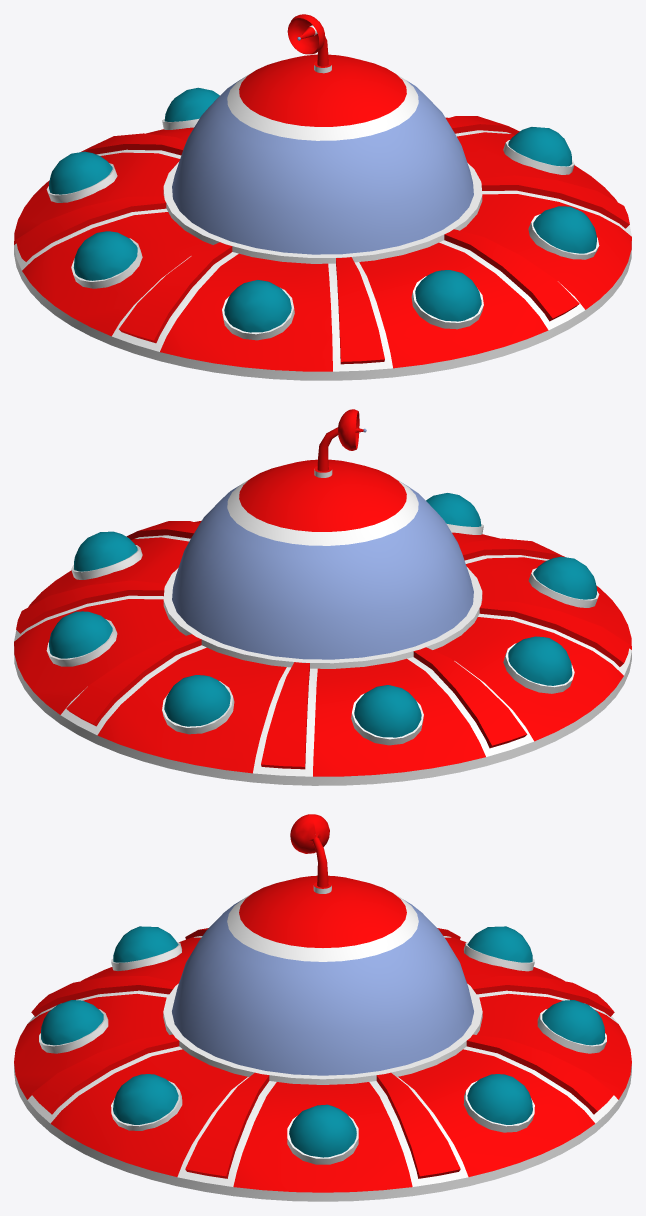
File: retroufo_red_lowpoly.gltf
3 renders of one model, top to bottom at view 1: azimuth 30°, elevation 25°; view 2: azimuth 150°, elevation 25°; view 3: azimuth 270°, elevation 25°, orthographic.
Visible parts, largest first — view 1: Cylinder02.002, meshId12_name, meshId9_name, meshId13_name, meshId11_name, Sphere03.001, Sphere05.001, Sphere01.001, Sphere07.001, Sphere08.001, Sphere02.001, Sphere06.001 (+7 smaller); view 2: Cylinder02.002, meshId12_name, meshId9_name, meshId13_name, meshId11_name, Sphere08.001, Sphere06.001, Sphere01.001, Sphere04.001, Sphere03.001, Sphere02.001, Sphere05.001 (+7 smaller); view 3: Cylinder02.002, meshId12_name, meshId9_name, meshId13_name, meshId11_name, Sphere02.001, Sphere04.001, Sphere07.001, Sphere05.001, Sphere06.001, Sphere03.001, Sphere08.001 (+9 smaller).
Part boxes in pixels (x1,y1,x2,y2): Cylinder02.002: (14,116,631,371); meshId12_name: (172,78,473,254); meshId9_name: (14,130,631,380); meshId13_name: (239,54,406,126); meshId11_name: (163,71,482,263); Sphere03.001: (224,280,291,332); Sphere05.001: (415,270,481,321); Sphere01.001: (73,231,137,280); Sphere07.001: (533,206,596,253); Sphere08.001: (49,151,112,194); Sphere02.001: (508,127,571,166); Sphere06.001: (164,87,219,121); Cylinder02.002: (14,520,631,776); meshId12_name: (172,482,473,659); meshId9_name: (14,535,631,785); meshId13_name: (239,459,406,531); meshId11_name: (163,477,482,668); Sphere08.001: (354,685,421,737); Sphere06.001: (164,675,230,726); Sphere01.001: (508,636,572,685); Sphere04.001: (49,611,112,658); Sphere03.001: (533,556,596,599); Sphere02.001: (74,531,137,571); Sphere05.001: (426,493,481,526); Cylinder02.002: (14,928,631,1192); meshId12_name: (172,899,473,1075); meshId9_name: (14,936,631,1201); meshId13_name: (239,875,406,947); meshId11_name: (163,894,482,1084); Sphere02.001: (289,1104,356,1157); Sphere04.001: (467,1074,532,1124); Sphere07.001: (113,1074,178,1124); Sphere05.001: (41,1000,103,1045); Sphere06.001: (542,1000,604,1045); Sphere03.001: (113,926,178,962); Sphere08.001: (467,926,532,962).
Bounding box in the file's own units: 1.76 × 0.9929 × 1.76.
